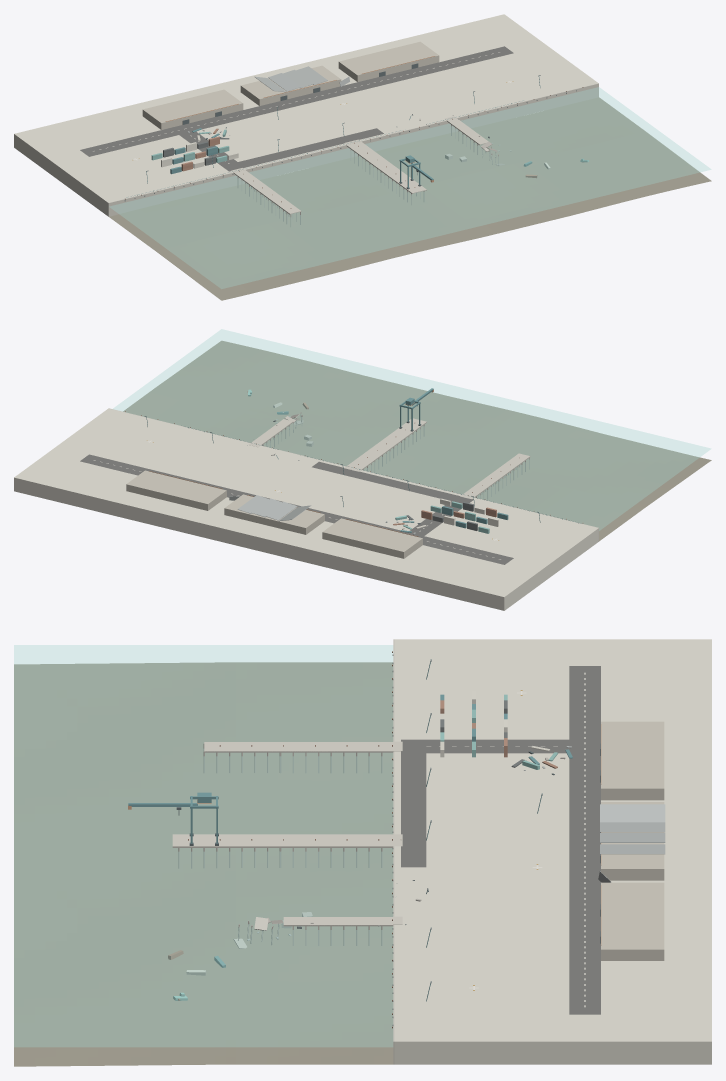
File: port-world-high.glb
3 renders of one model, top to bottom at view 1: azimuth 30°, elevation 25°; view 2: azimuth 150°, elevation 25°; view 3: azimuth 270°, elevation 25°, orthographic. The views are drawn at different scales.
Visible parts, largest first — view 1: port-world-high_root; view 2: port-world-high_root; view 3: port-world-high_root.
Part boxes in pixels (box(x1,y1,x2,y2)): port-world-high_root: box(14, 14, 711, 300); port-world-high_root: box(14, 329, 711, 610); port-world-high_root: box(14, 639, 711, 1066).
Size of the model in its own units: 600 by 49.5 by 440.
